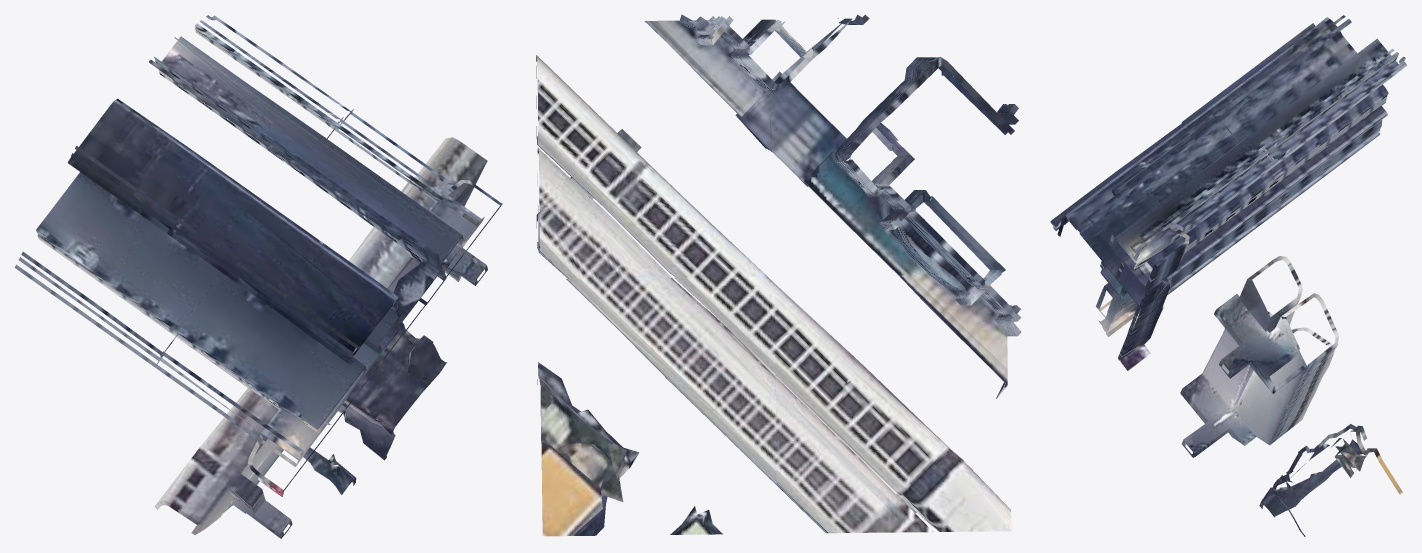
The picture shows the model from 3 angles, left to right: view 1: azimuth 30°, elevation 25°; view 2: azimuth 150°, elevation 25°; view 3: azimuth 270°, elevation 25°; orthographic projection. The views are drawn at different scales.
Bounding box in the file's own units: 49 × 50.45 × 38.38.
Materials: 3 (3 with a texture image).
